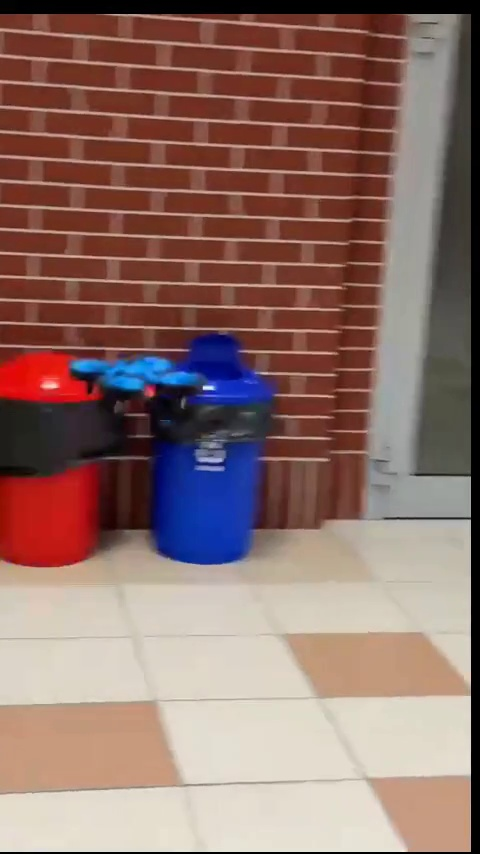drone: (71, 350, 199, 407)
